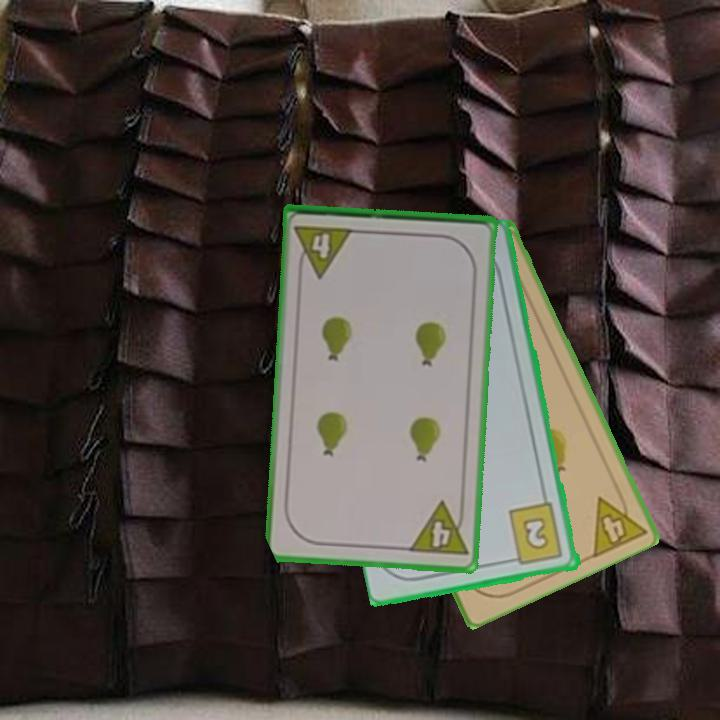2b: (505, 500, 566, 569)
4p: (588, 482, 650, 561), (405, 498, 471, 560), (291, 222, 357, 280)
